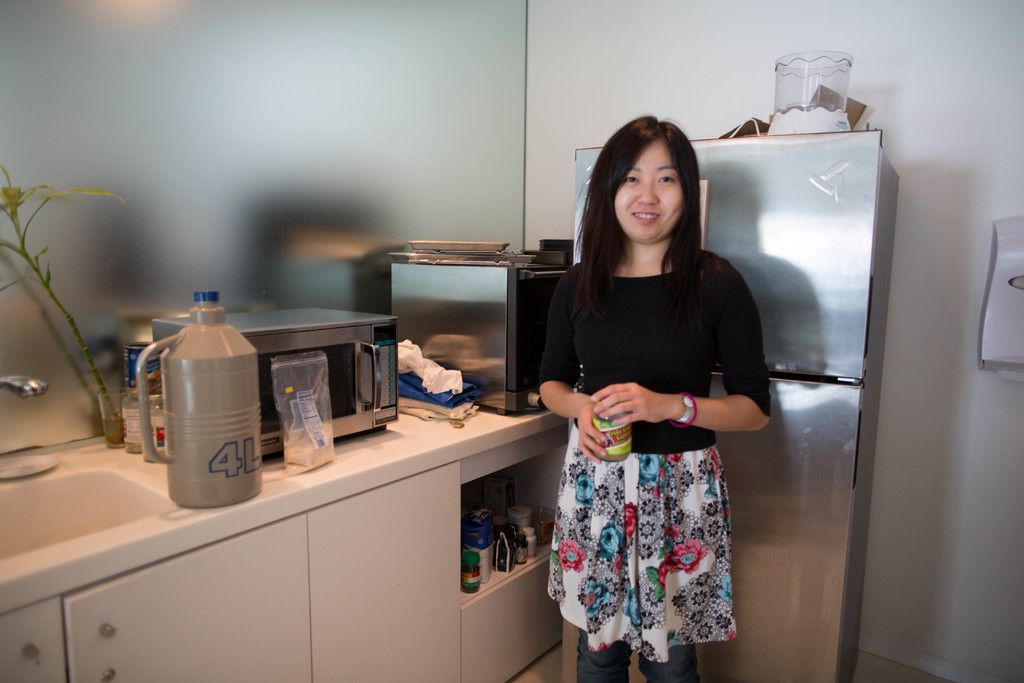cabinet door: (314, 519, 463, 681), (77, 586, 302, 683)
handle: (15, 636, 43, 666), (92, 618, 120, 643)
refrigerator door: (593, 150, 850, 340), (694, 407, 841, 681)
